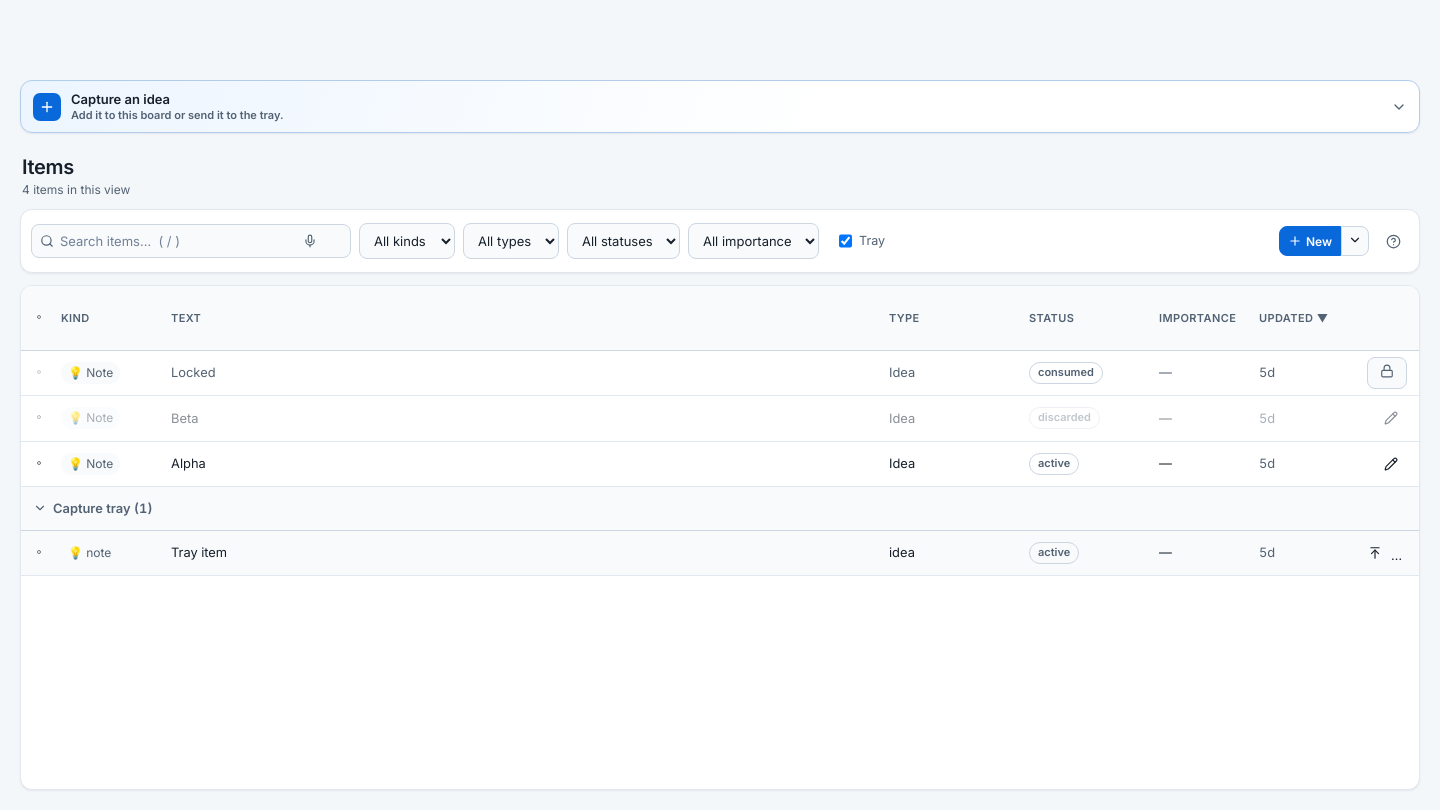
Test: EasyEdit view › board save posts addBoardItem with no geometry then refreshes — case:easy-edit-11/10
Click the button "Capture an idea Add it to this board or send it to the tray.".
click(121, 99)  # box [21,81,1419,132]
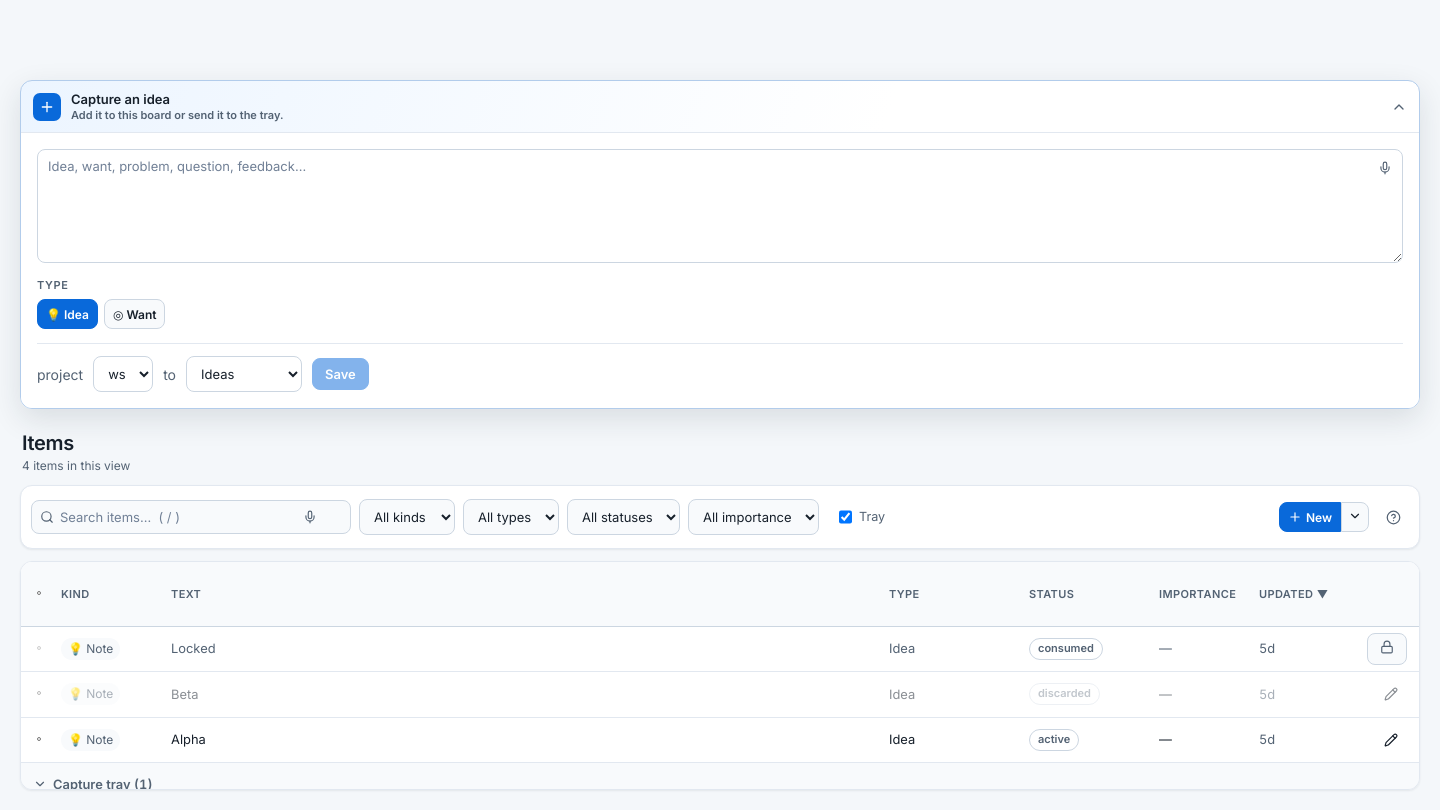
Type "Ship the thing" into the text box named "capture text".
click(720, 206); type("Ship the thing")  # box [37,149,1403,262]
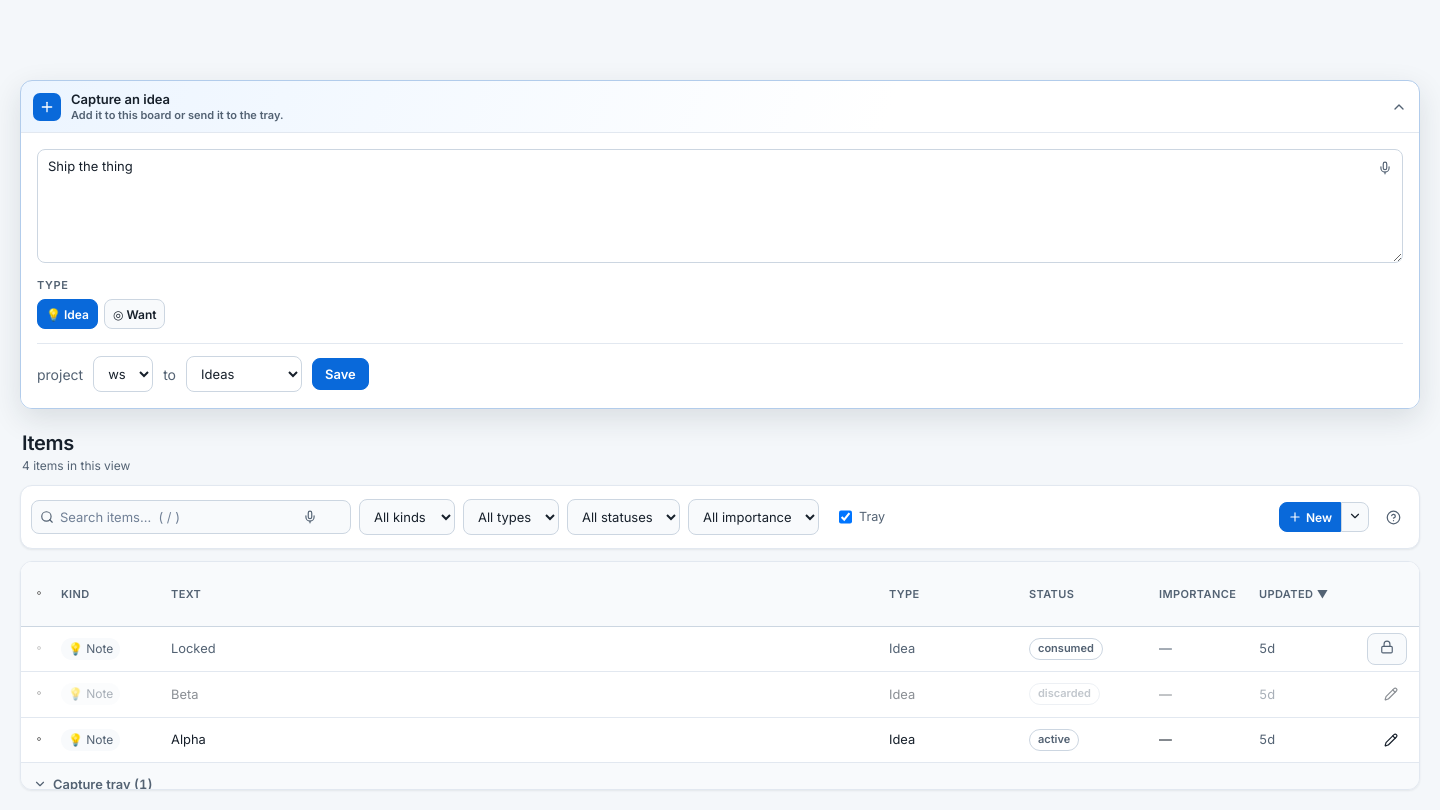
Click the button "Save".
click(340, 374)  # box [312,358,369,390]
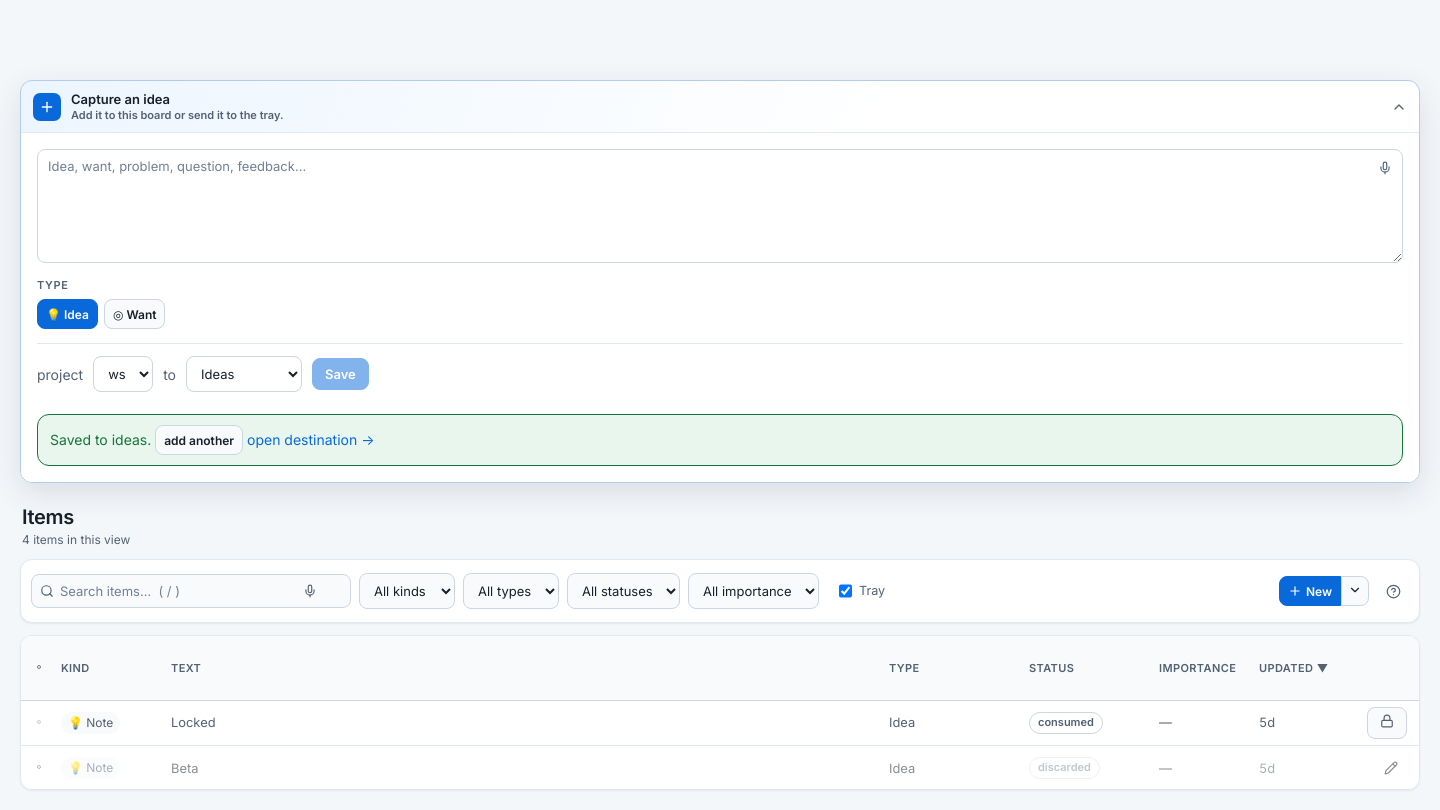
expect the link "open destination →" is shown: met, box [247,430,374,448]
